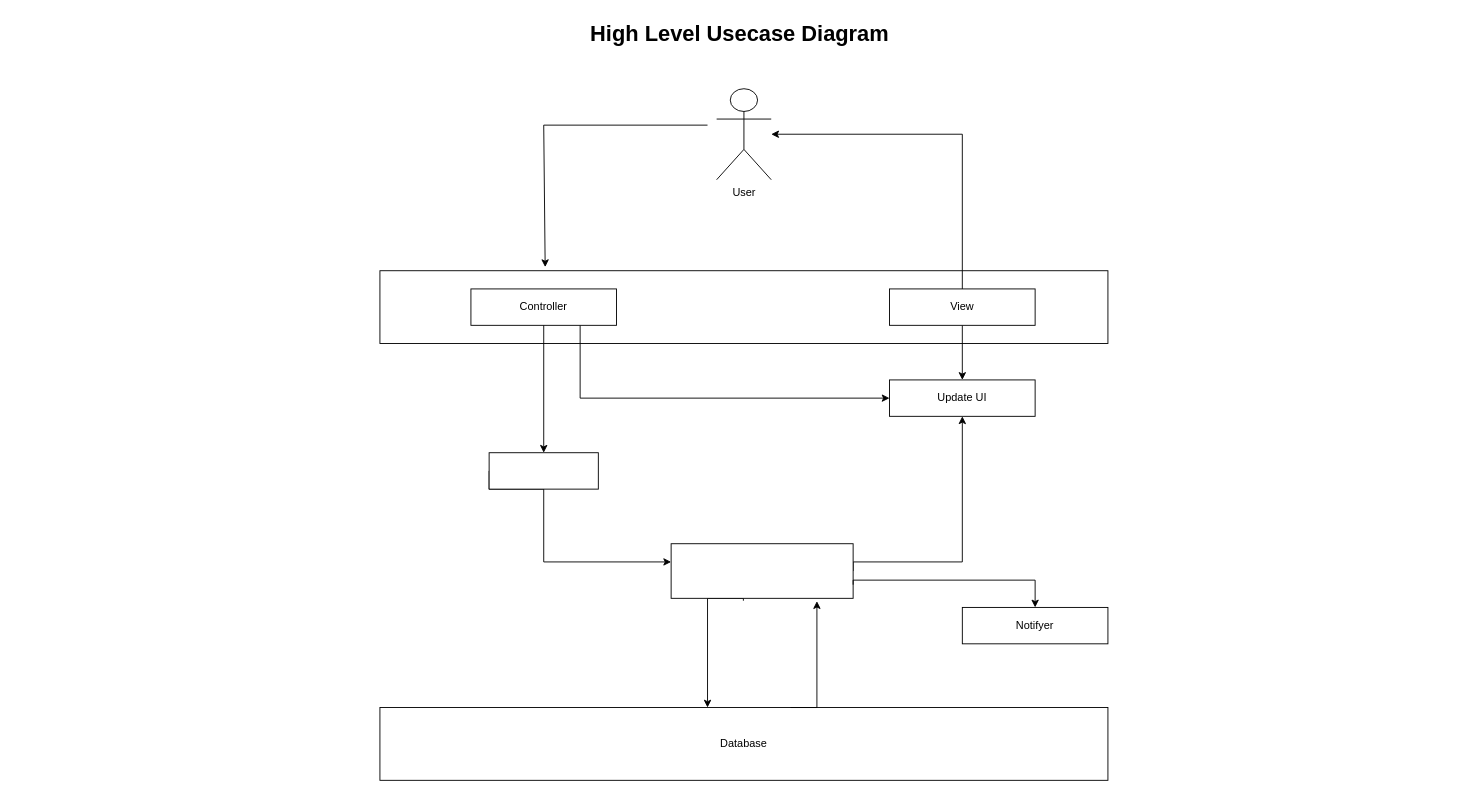
Image size: 1478x796. Some labels were removed from this diagram. Here are the shapes that lost their labels. From the top down, the box of each, then its label:
(379, 270, 1108, 344): UI
(488, 452, 598, 489): Create new Element
(670, 543, 853, 598): DB Connecter
